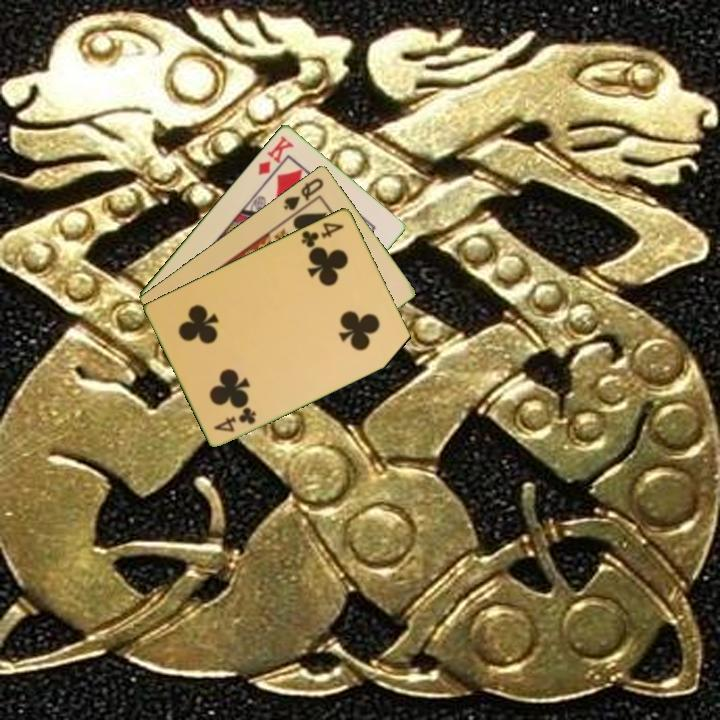4c: (298, 218, 347, 250), (210, 404, 259, 435)
Kd: (254, 132, 297, 178)
Qs: (279, 174, 327, 213)
